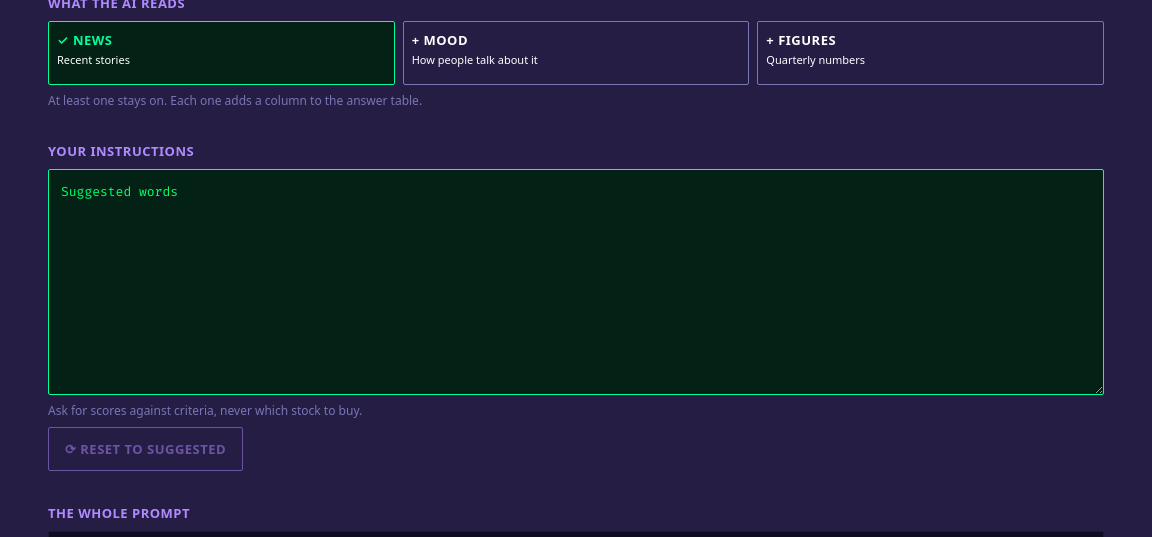
Test: PromptEditor › saves the user's own words, and Reset to suggested puts the suggested ones back
Replace the text in the text box showing "Suggested words" with "Score the AI products." at (576, 282), box top-left (48, 169), bottom-right (1104, 395)
(page scrolled)
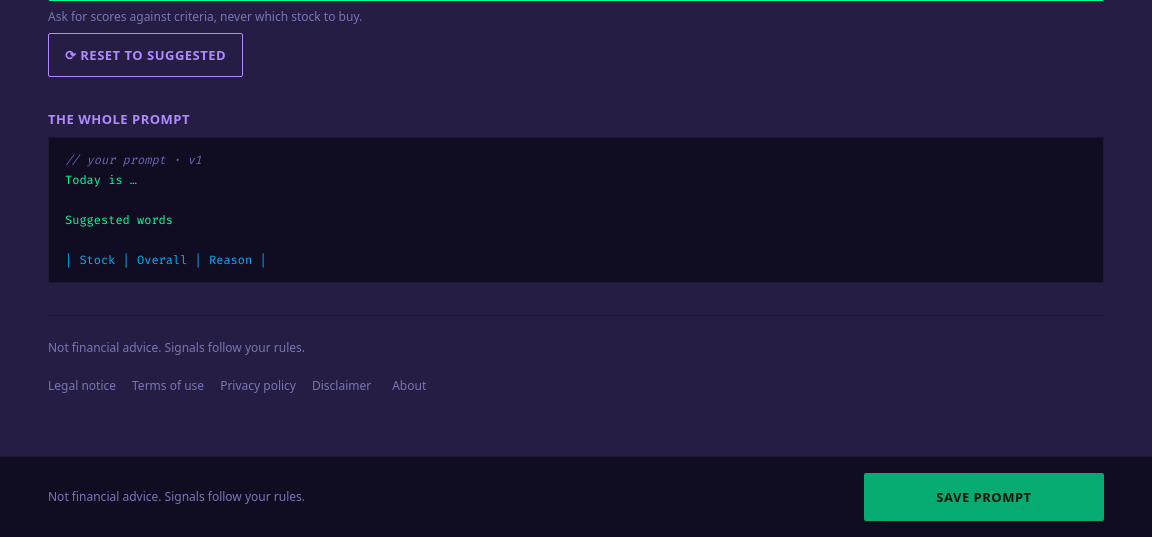
Check: the text "// your prompt · v1" is shown, box top-left (65, 152), bottom-right (202, 168)
Click the button "Save prompt" at (984, 497), box top-left (864, 473), bottom-right (1104, 521)
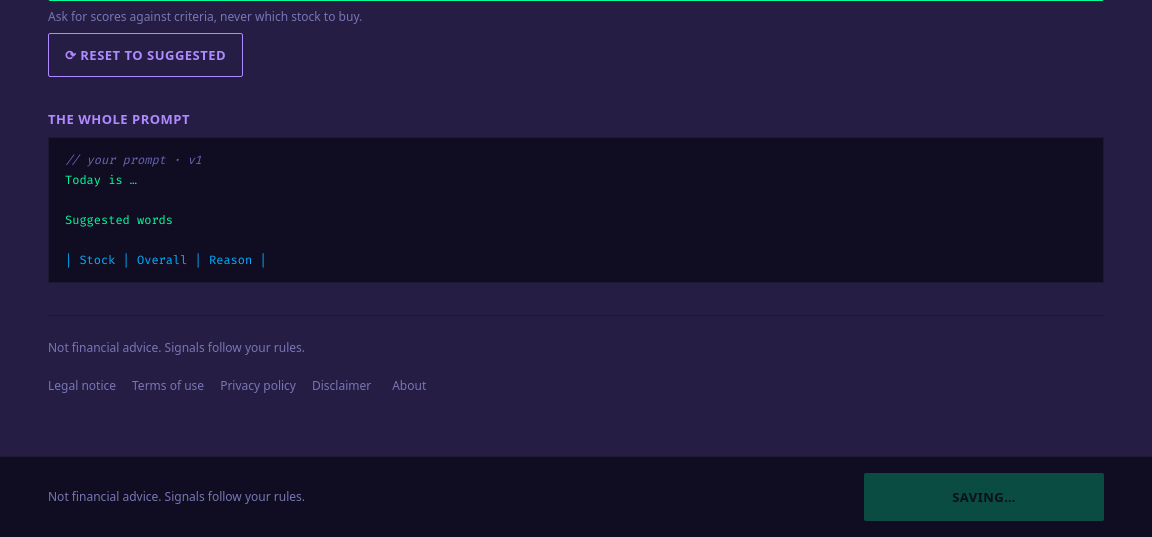
Click the button "⟳ Reset to suggested" at (146, 55), box top-left (48, 33), bottom-right (243, 77)
(page scrolled)
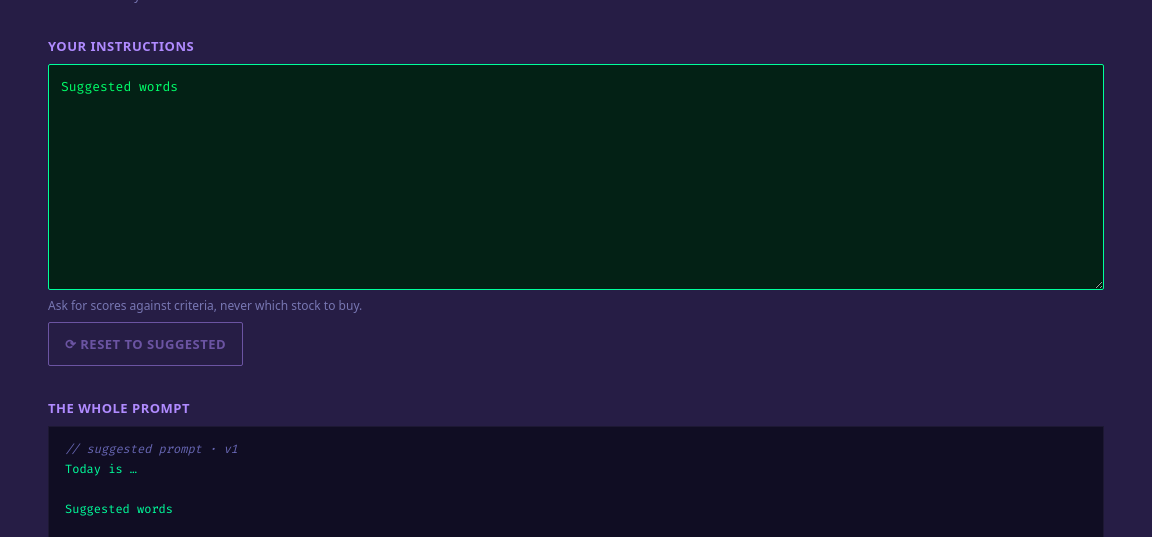
Check: the text box showing "Suggested words" holds "Suggested words", box top-left (48, 64), bottom-right (1104, 290)
